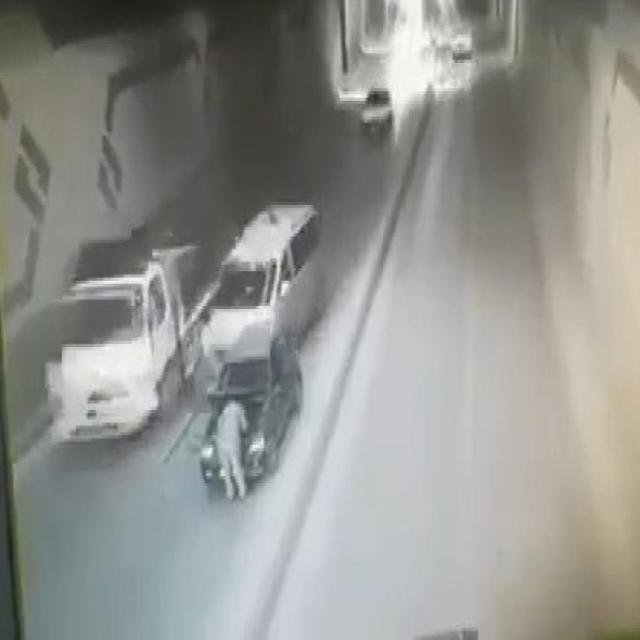accident: (52, 193, 318, 483), (172, 207, 318, 499)
non_accident: (347, 85, 405, 143)
